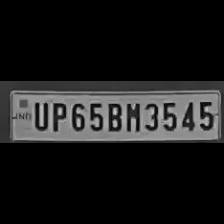3: (141, 99, 158, 131)
4: (178, 99, 196, 131)
5: (195, 97, 215, 130), (159, 98, 177, 132), (86, 100, 104, 132)
6: (68, 99, 86, 131)
B: (104, 100, 122, 132)
M: (122, 100, 142, 132)
P: (47, 99, 66, 131)
U: (28, 99, 48, 131)
